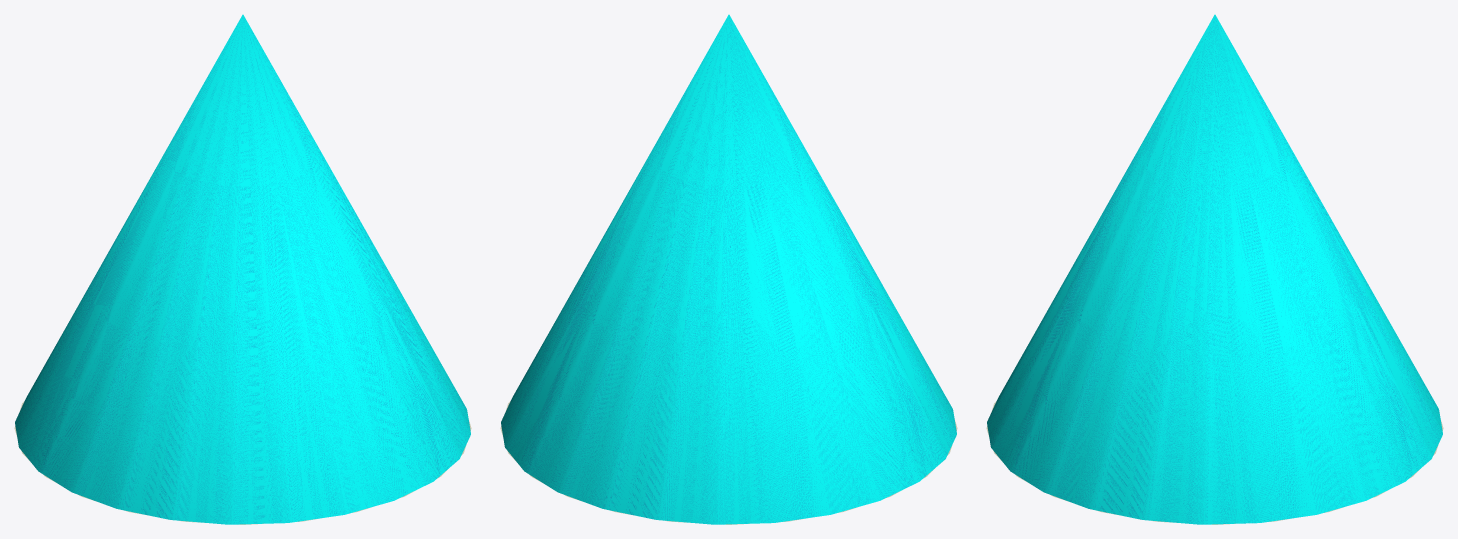
3 views of the same model, side by side, from view 1: azimuth 30°, elevation 25°; view 2: azimuth 150°, elevation 25°; view 3: azimuth 270°, elevation 25° (orthographic).
Visible parts, largest first — view 1: SketchUp; view 2: SketchUp; view 3: SketchUp.
Part boxes in pixels (x1,y1,x2,y2): SketchUp: [15, 14, 470, 524]; SketchUp: [501, 14, 956, 524]; SketchUp: [987, 14, 1442, 524].
Bounding box in the file's own units: 3.94 × 3.94 × 3.94.
